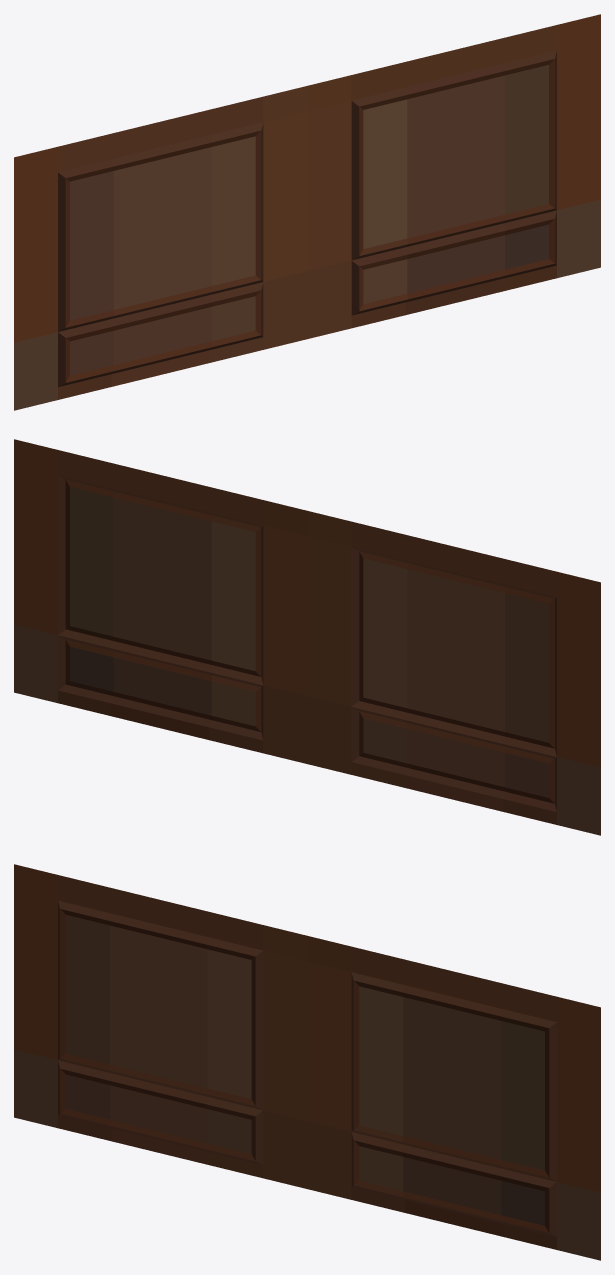
Rendered from Wall_HomeA-TypeE-6m.fbx.
The picture shows the model from 3 angles, top to bottom: view 1: azimuth 30°, elevation 25°; view 2: azimuth 150°, elevation 25°; view 3: azimuth 330°, elevation 25°; orthographic projection.
Parts seen in each view (by area): view 1: Wall_HomeA-TypeE-6m; view 2: Wall_HomeA-TypeE-6m; view 3: Wall_HomeA-TypeE-6m.
Part boxes in pixels (x1,y1,x2,y2): Wall_HomeA-TypeE-6m: (14,14,600,410); Wall_HomeA-TypeE-6m: (14,439,600,835); Wall_HomeA-TypeE-6m: (14,864,600,1260).
Size of the model in its own units: 600 by 247 by 5.
